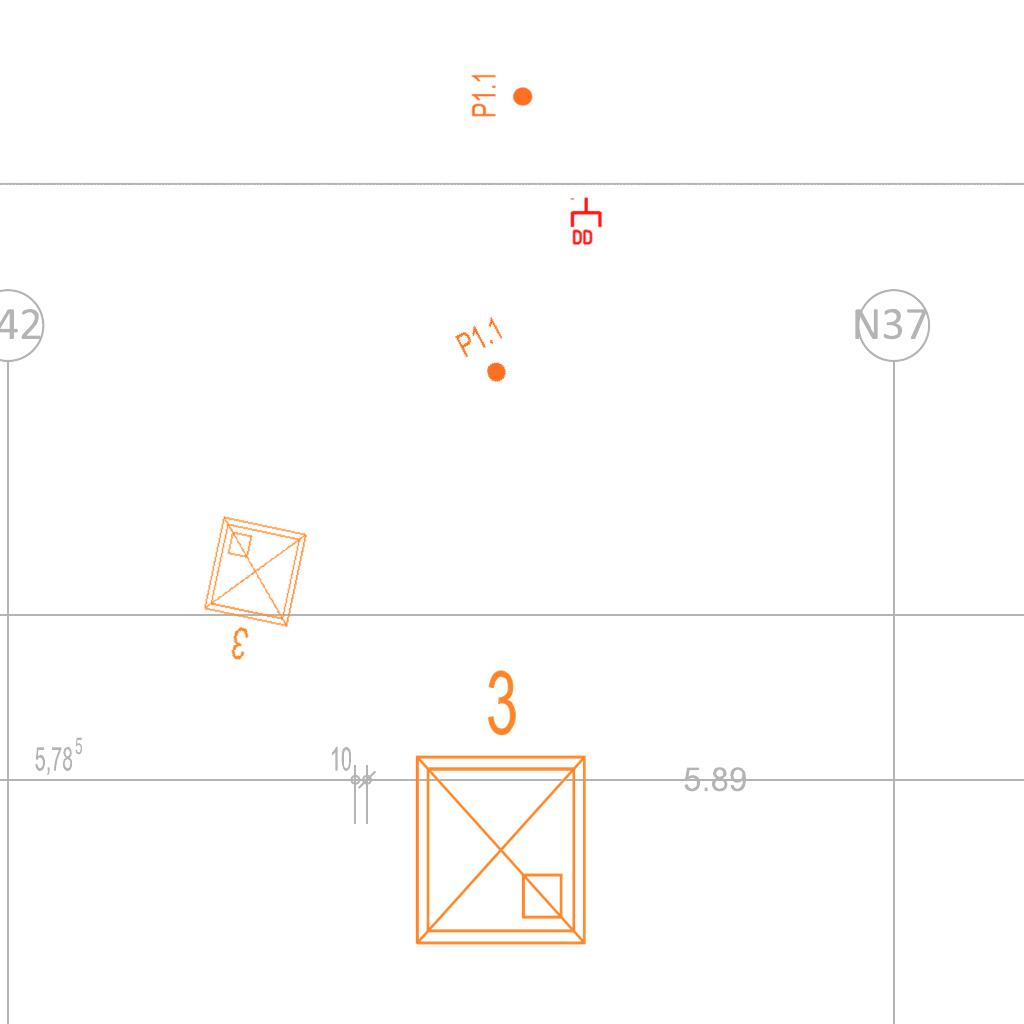Datenanschluss_zweifach: (570, 196, 604, 247)
Downlight_LED_Einbauleuchten_Flur_2: (452, 313, 524, 393), (470, 72, 534, 118)
Einbaudownlights_LED_Konferenzraeume: (393, 659, 601, 959), (186, 507, 320, 677)
